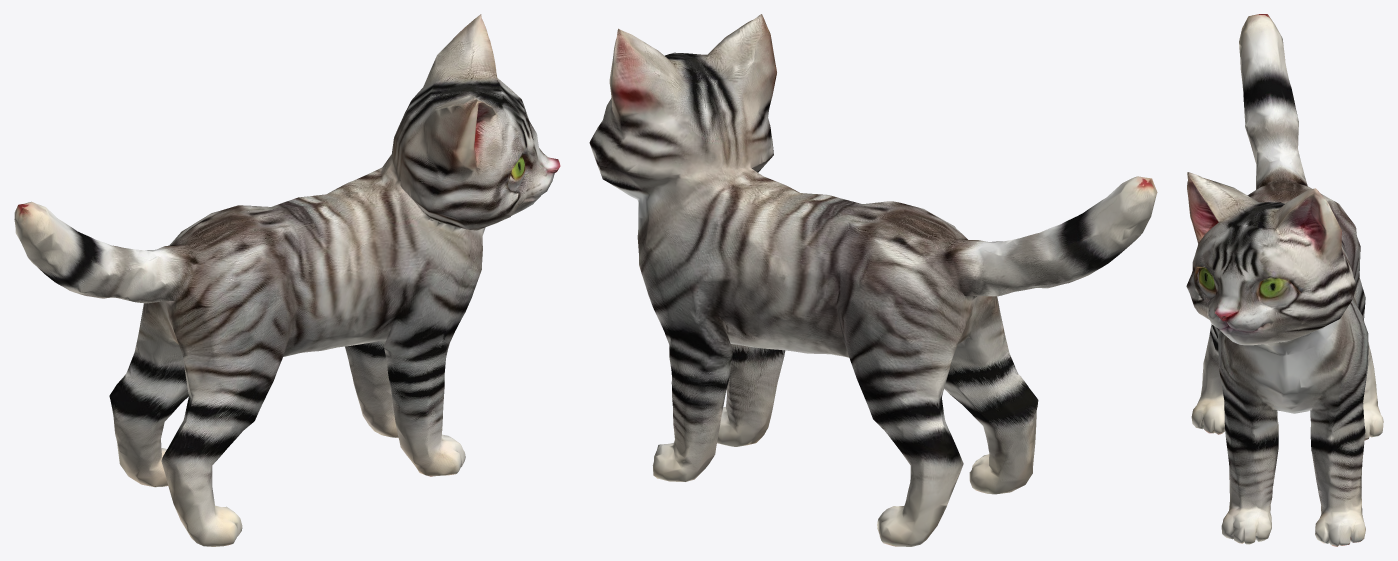
Rendered from JELLIECAT.glb.
The picture shows the model from 3 angles, left to right: view 1: azimuth 30°, elevation 25°; view 2: azimuth 150°, elevation 25°; view 3: azimuth 270°, elevation 25°; orthographic projection. The views are drawn at different scales.
Parts seen in each view (by area): view 1: fit; view 2: fit; view 3: fit.
Boxes of the visible parts, <box> form: fit: <box>14,14,560,546</box>; fit: <box>589,14,1157,546</box>; fit: <box>1186,14,1383,546</box>.
Size of the model in its own units: 1.34 by 1 by 0.4647.
1 material, 1 textured.
